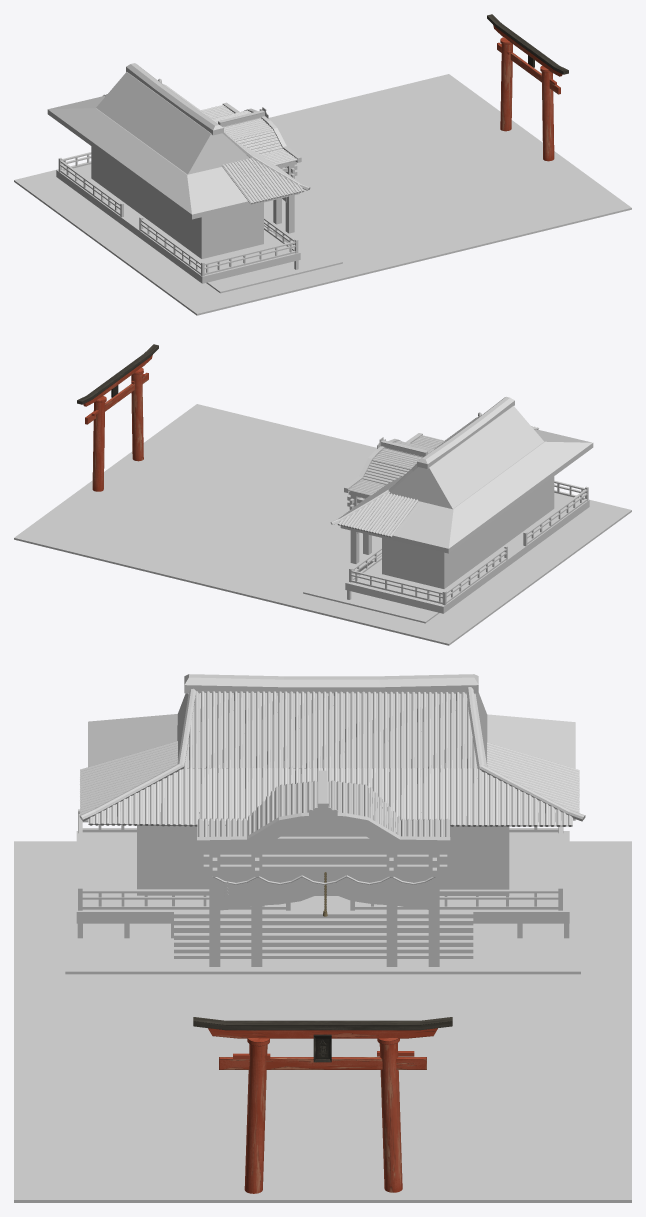
Rendered from _ttt.fbx.
3 views of the same model, one above another, from view 1: azimuth 30°, elevation 25°; view 2: azimuth 150°, elevation 25°; view 3: azimuth 270°, elevation 25° (orthographic). The views are drawn at different scales.
Visible parts, largest first — view 1: Cube.008, Cube.060, Cube.006, Cube.001, Cube.025, Cube.142, Cube.007, Cylinder.011, Cylinder.012, Cube.151, Cube.055; view 2: Cube.008, Cube.060, Cube.006, Cube.001, Cube.025, Cube.142, Cube.007, Cylinder.011, Cylinder.012, Cube.151; view 3: Cube.008, Cube.142, Cube.025, Cube.020, Cube.001, Cube.060, Cube.007, Cube.055, Cylinder.012, Cylinder.011, Plane.005, Cube.151 (+16 smaller).
Part boxes in pixels (bbox=[...]): Cube.008: bbox=[14, 74, 631, 315]; Cube.060: bbox=[47, 96, 299, 219]; Cube.006: bbox=[96, 72, 250, 174]; Cube.001: bbox=[91, 146, 263, 258]; Cube.025: bbox=[56, 164, 300, 283]; Cube.142: bbox=[206, 204, 342, 293]; Cube.007: bbox=[126, 63, 223, 135]; Cylinder.011: bbox=[500, 37, 512, 131]; Cylinder.012: bbox=[540, 65, 554, 161]; Cube.151: bbox=[487, 14, 568, 74]; Cube.055: bbox=[222, 102, 301, 162]; Cube.008: bbox=[14, 404, 631, 645]; Cube.060: bbox=[340, 429, 593, 553]; Cube.006: bbox=[389, 406, 543, 509]; Cube.001: bbox=[382, 476, 554, 588]; Cube.025: bbox=[345, 493, 589, 613]; Cube.142: bbox=[303, 537, 439, 623]; Cube.007: bbox=[417, 396, 514, 468]; Cylinder.011: bbox=[92, 396, 106, 491]; Cylinder.012: bbox=[131, 367, 143, 461]; Cube.151: bbox=[77, 344, 158, 404]; Cube.008: bbox=[14, 841, 631, 1202]; Cube.142: bbox=[65, 870, 580, 974]; Cube.025: bbox=[76, 831, 569, 923]; Cube.020: bbox=[174, 911, 473, 958]; Cube.001: bbox=[137, 820, 509, 895]; Cube.060: bbox=[88, 714, 575, 820]; Cube.007: bbox=[184, 674, 478, 695]; Cube.055: bbox=[197, 812, 450, 849]; Cylinder.012: bbox=[244, 1038, 269, 1193]; Cylinder.011: bbox=[377, 1038, 402, 1192]; Plane.005: bbox=[220, 872, 324, 910]; Cube.151: bbox=[193, 1017, 452, 1030].
Bounding box in the file's own units: 1621 × 480 × 1181.
